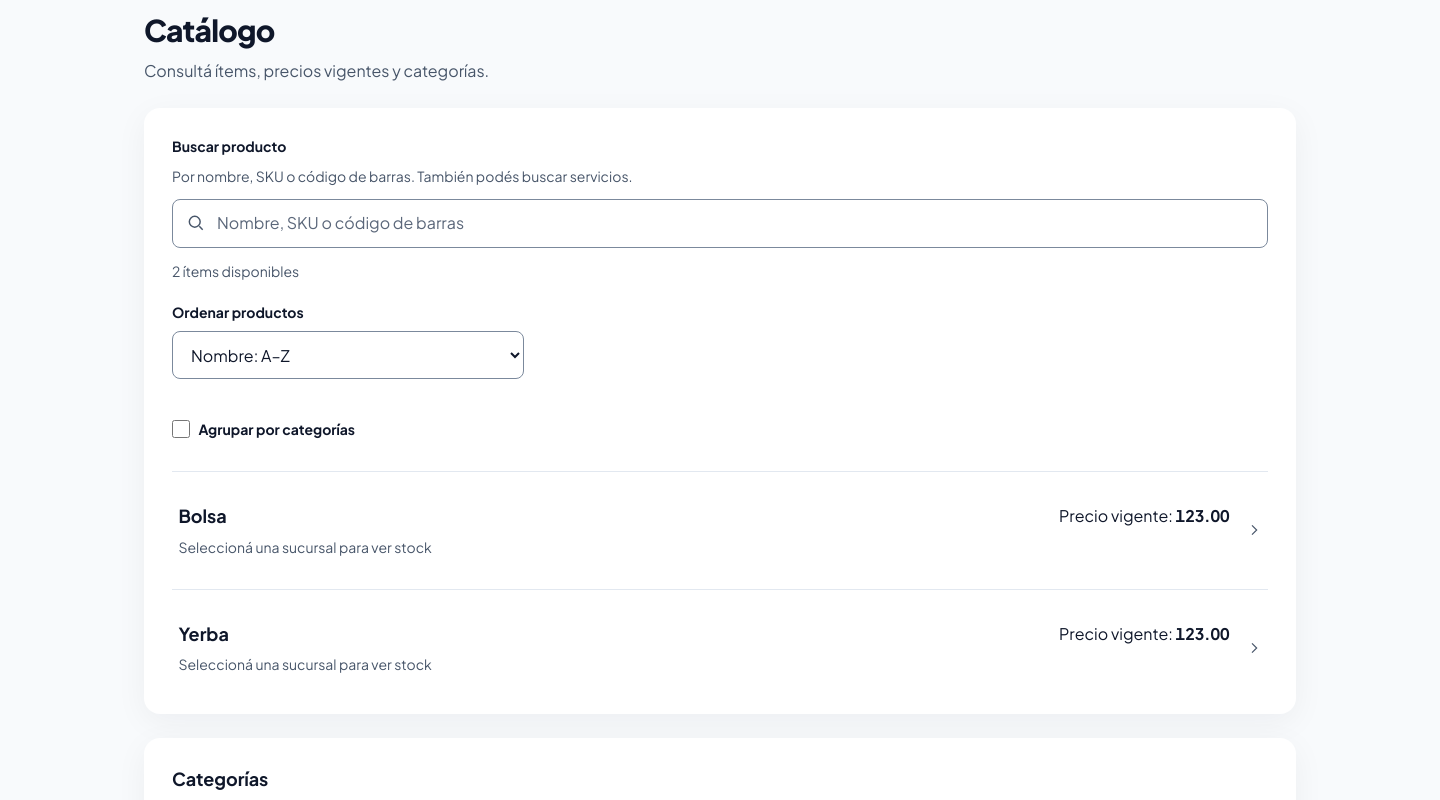
groups the consultation catalog using category associations and includes uncategorized products
Click the checkbox labelled "Agrupar por categorías": x=181, y=429 [172,420,190,438]
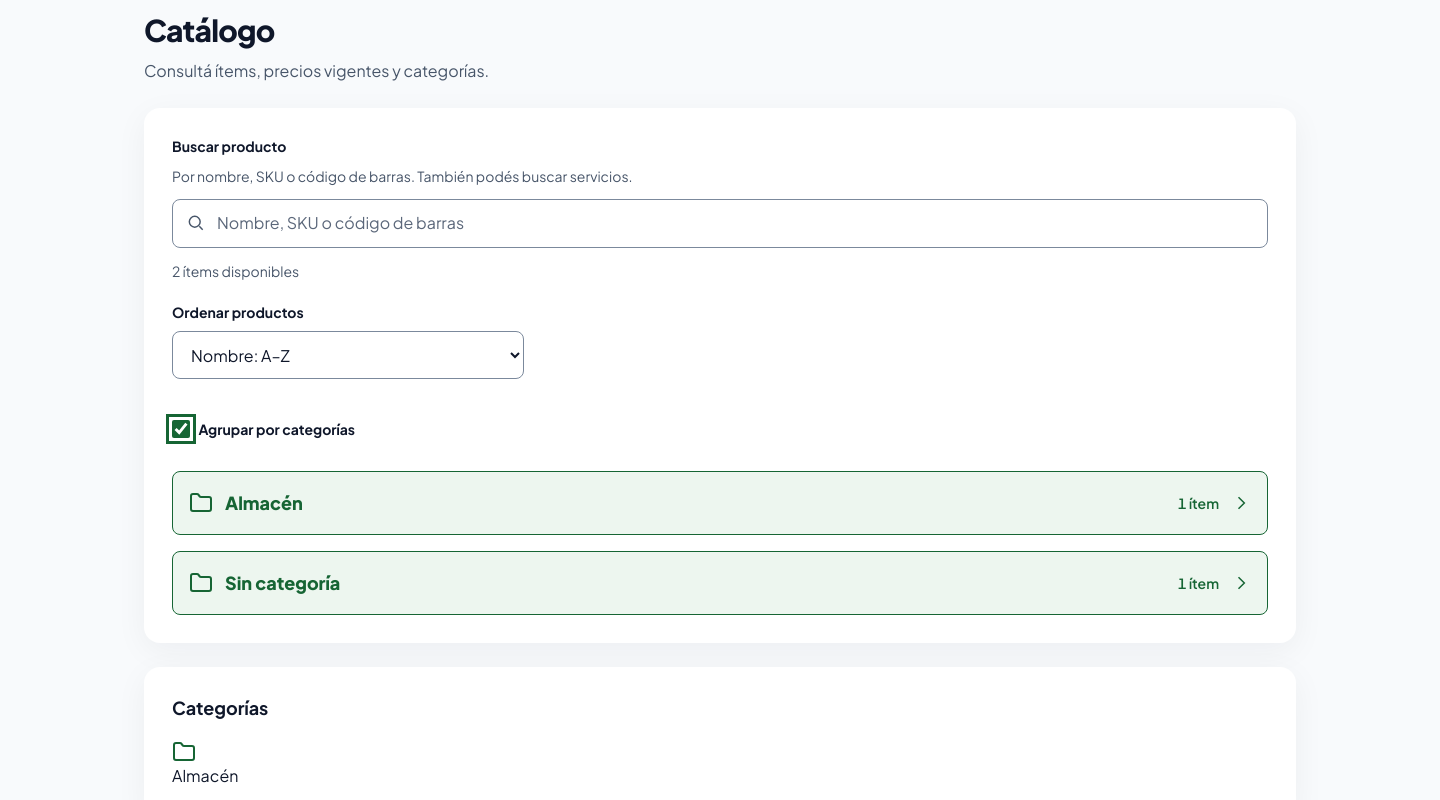
Expected: the heading "Yerba" is gone
Click the button with aria-label "Abrir categoría Almacén": x=264, y=503 [172,471,1268,535]
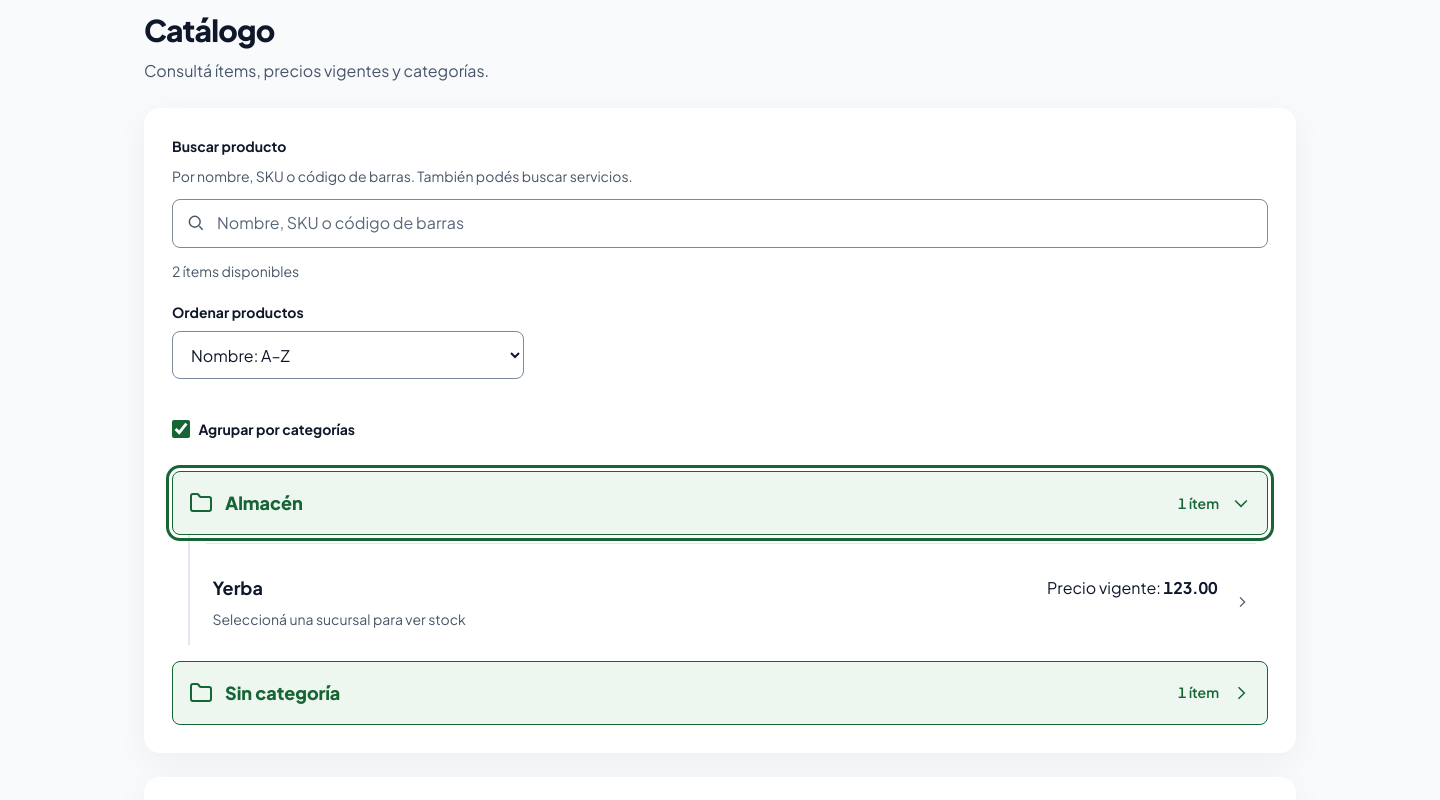
Click the button with aria-label "Abrir categoría Sin categoría": x=283, y=693 [172,661,1268,725]
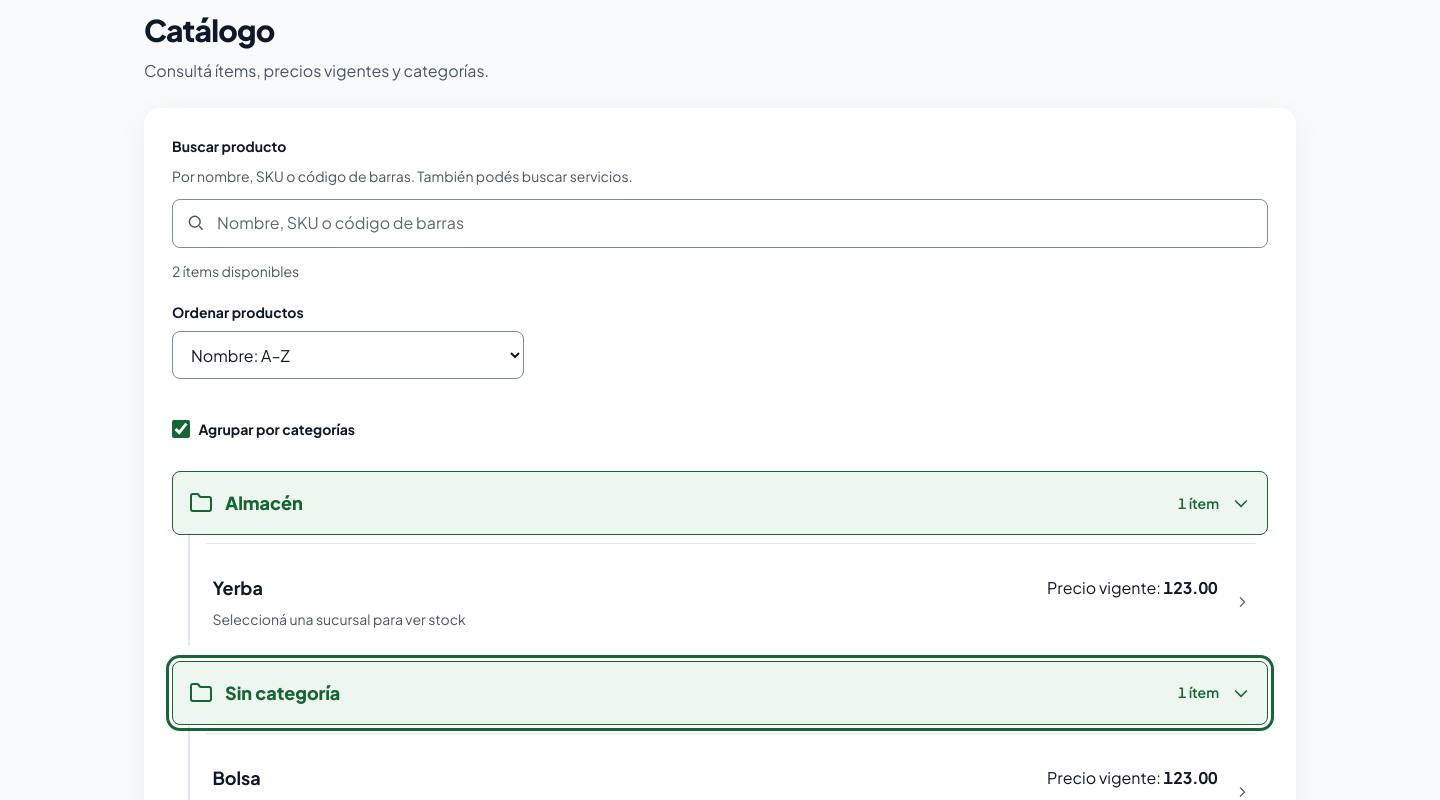
Expected: the text "Yerba" is shown, [212,576,263,599]
Expected: the text "Bolsa" is shown, [212,766,261,789]
Click the button with aria-label "Cerrar categoría Almacén": x=264, y=503 [172,471,1268,535]
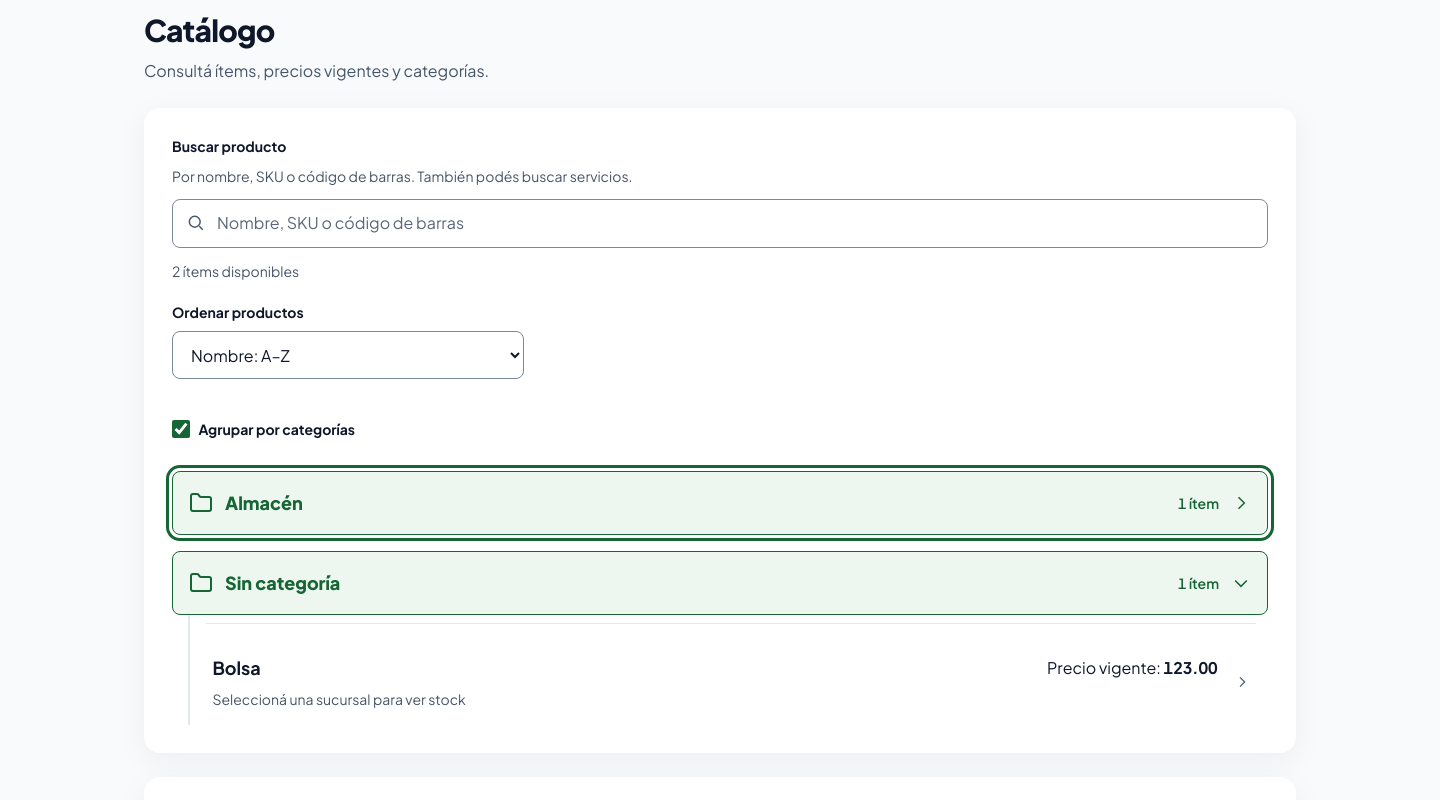
Expected: the heading "Yerba" is gone
